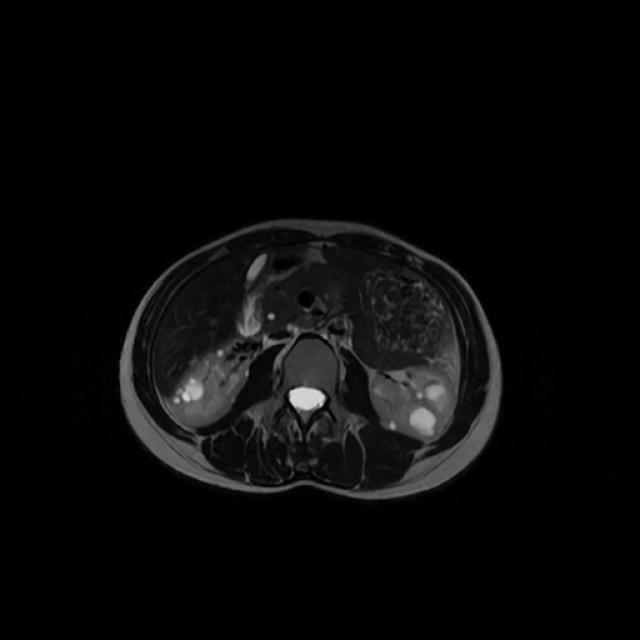sag: (177, 353, 246, 424)
sol: (371, 366, 456, 438)
